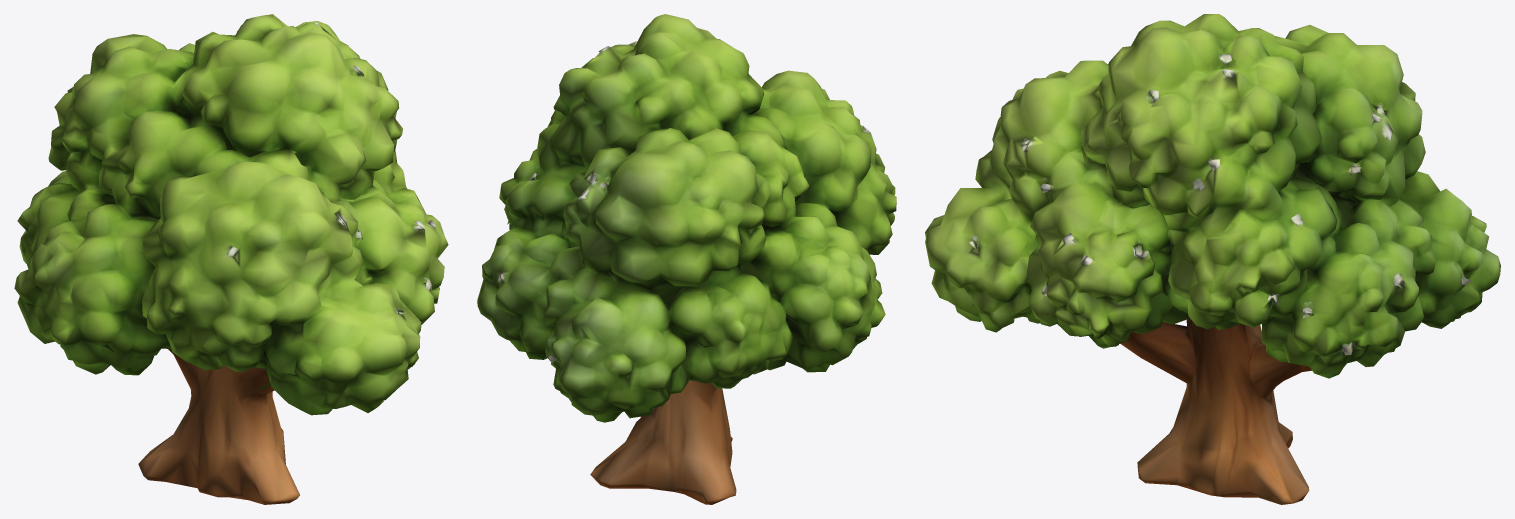
File: tree_l0.glb
3 views of the same model, side by side, from view 1: azimuth 30°, elevation 25°; view 2: azimuth 150°, elevation 25°; view 3: azimuth 270°, elevation 25° (orthographic). The views are drawn at different scales.
Bounding box in the file's own units: 0.7588 × 0.8728 × 0.9746.
Materials: 1 (1 with a texture image).
